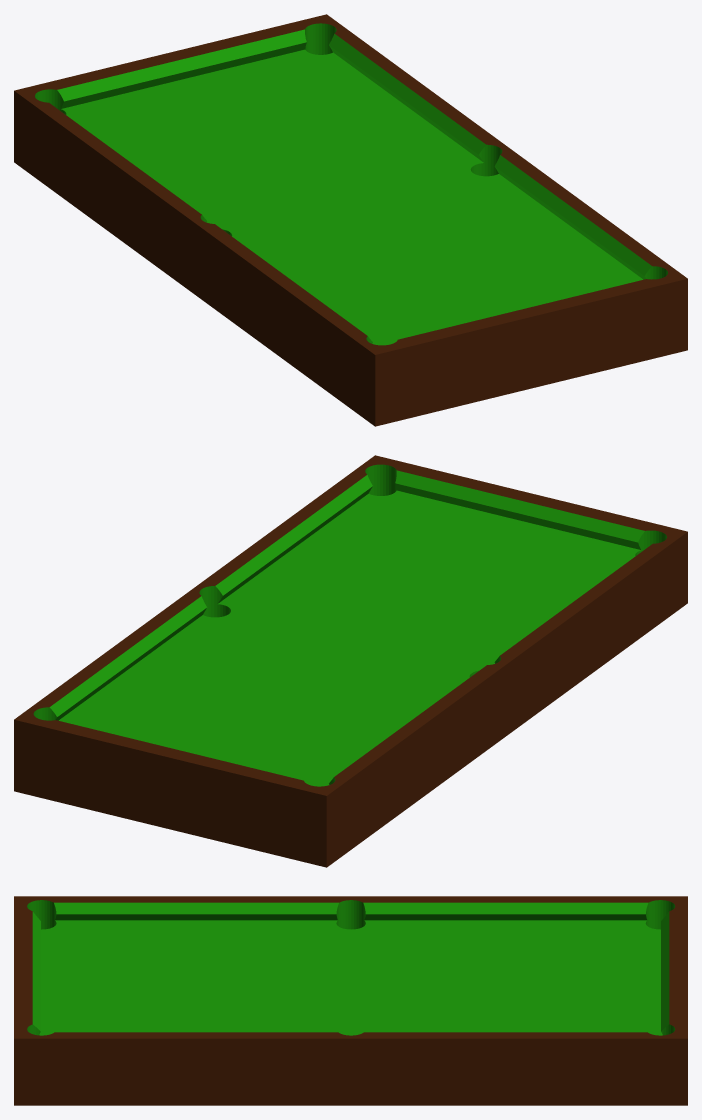
File: table.glb
3 views of the same model, one above another, from view 1: azimuth 30°, elevation 25°; view 2: azimuth 150°, elevation 25°; view 3: azimuth 270°, elevation 25° (orthographic). The views are drawn at different scales.
Visible parts, largest first — view 1: Cube; view 2: Cube; view 3: Cube.
Part boxes in pixels (left/top/right/bottom): Cube: left=14, top=14, right=687, bottom=426; Cube: left=14, top=455, right=687, bottom=867; Cube: left=14, top=896, right=687, bottom=1105.
Size of the model in its own units: 1.37 by 0.3 by 2.74.
